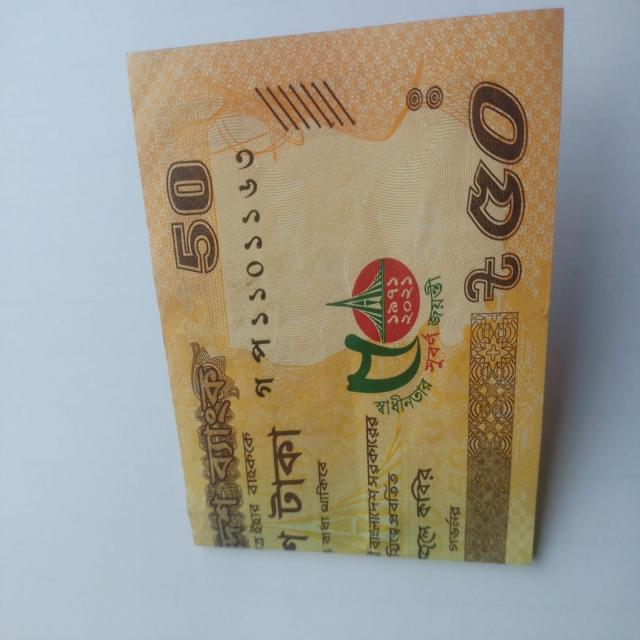Taka: (124, 21, 553, 559)
